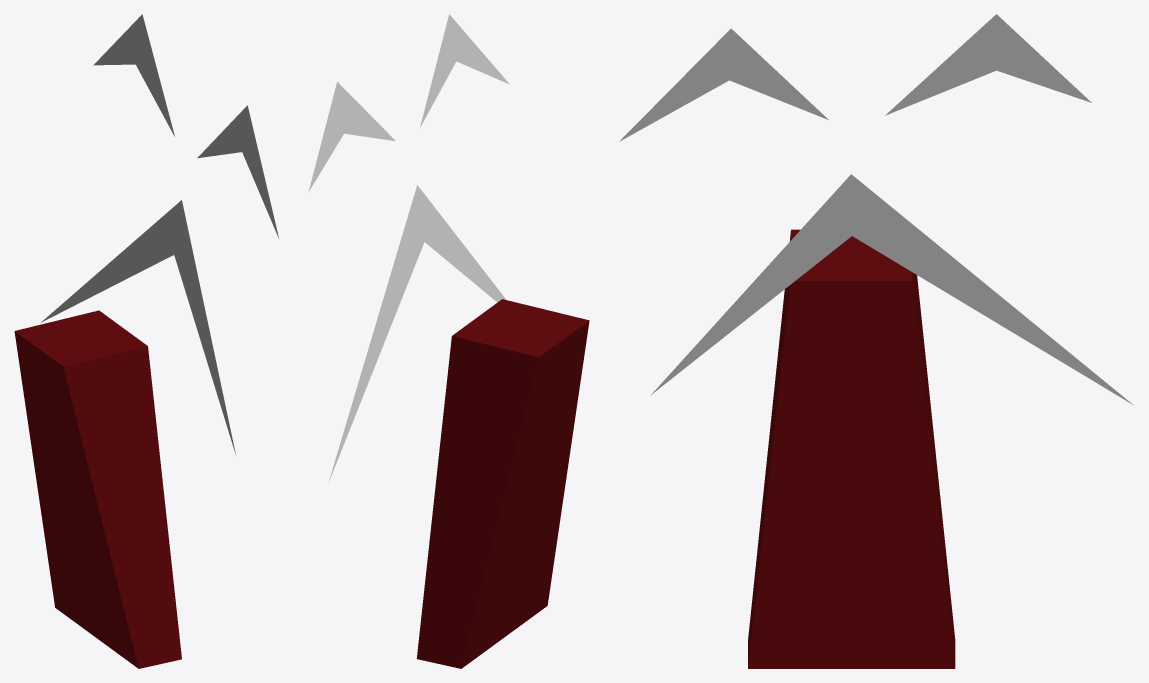
File: грустёня.fbx
3 views of the same model, side by side, from view 1: azimuth 30°, elevation 25°; view 2: azimuth 150°, elevation 25°; view 3: azimuth 270°, elevation 25° (orthographic). The views are drawn at different scales.
Visible parts, largest first — view 1: Cube, Plane; view 2: Cube, Plane; view 3: Cube, Plane.
Part boxes in pixels (left/top/right/bottom): Cube: left=14, top=310, right=181, bottom=668; Plane: left=41, top=14, right=278, bottom=454; Cube: left=416, top=299, right=589, bottom=668; Plane: left=308, top=14, right=509, bottom=482; Cube: left=748, top=229, right=955, bottom=668; Plane: left=619, top=14, right=1132, bottom=404.
Bounding box in the file's own units: 56.49 × 186 × 126.
